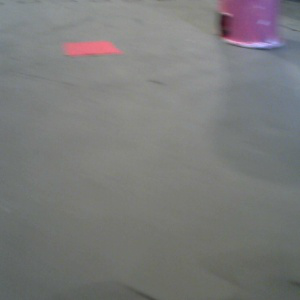right: (213, 1, 283, 48)
